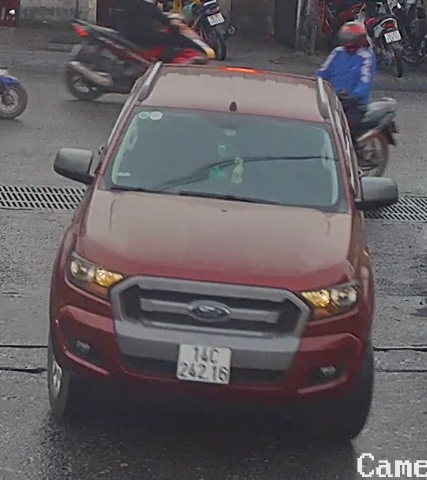vehicle plate: (172, 340, 236, 386)
